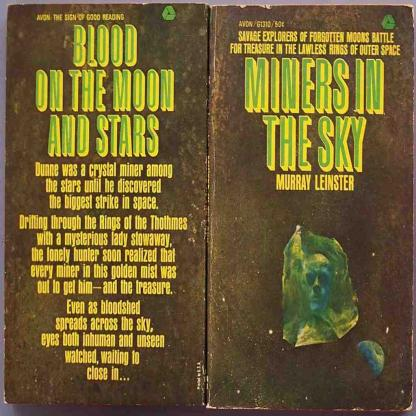book: (6, 1, 413, 411)
